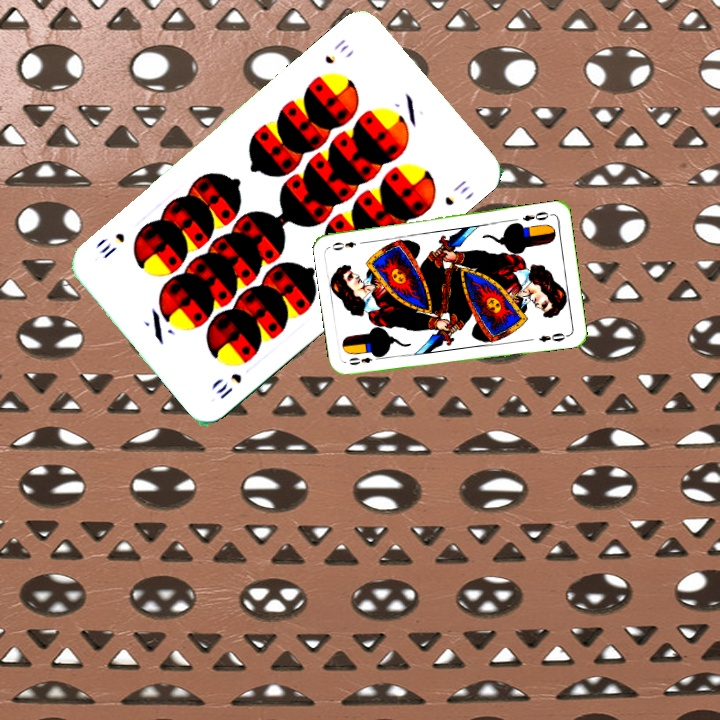EO: (344, 350, 384, 368), (518, 207, 554, 224)
S10: (212, 369, 245, 402), (321, 34, 352, 67)
